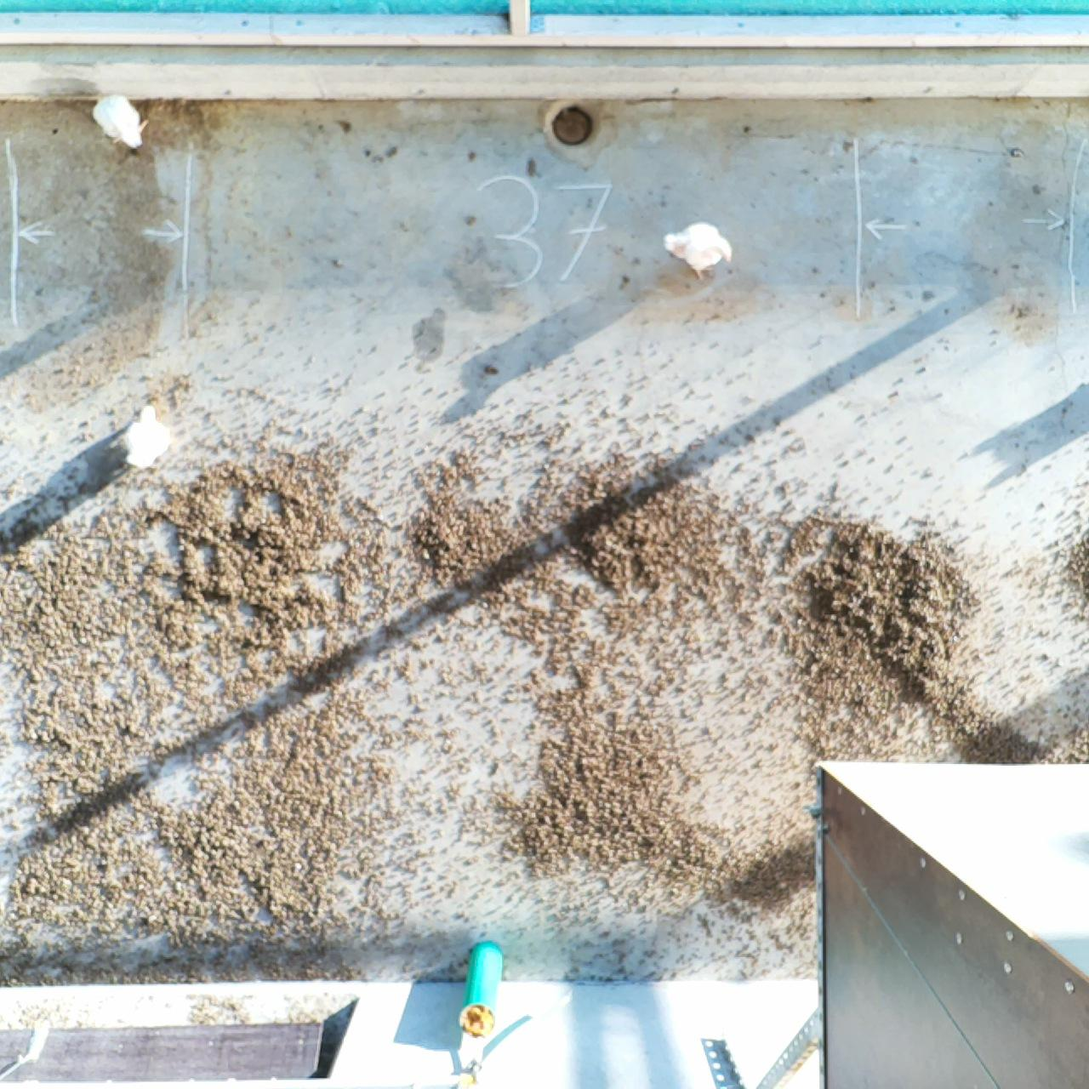chicken: (660, 216, 734, 281), (88, 85, 153, 158), (118, 398, 177, 476)
